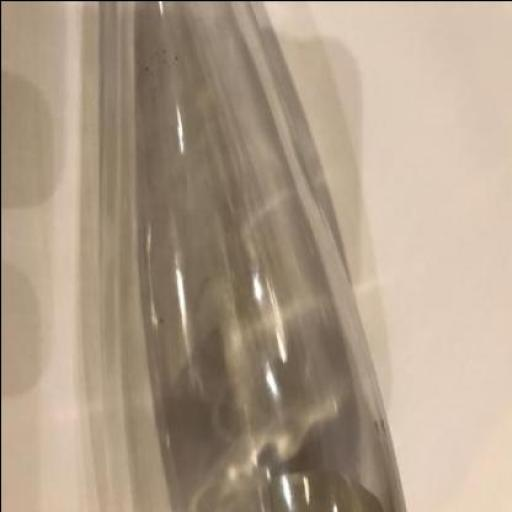glass: (134, 1, 406, 511)
